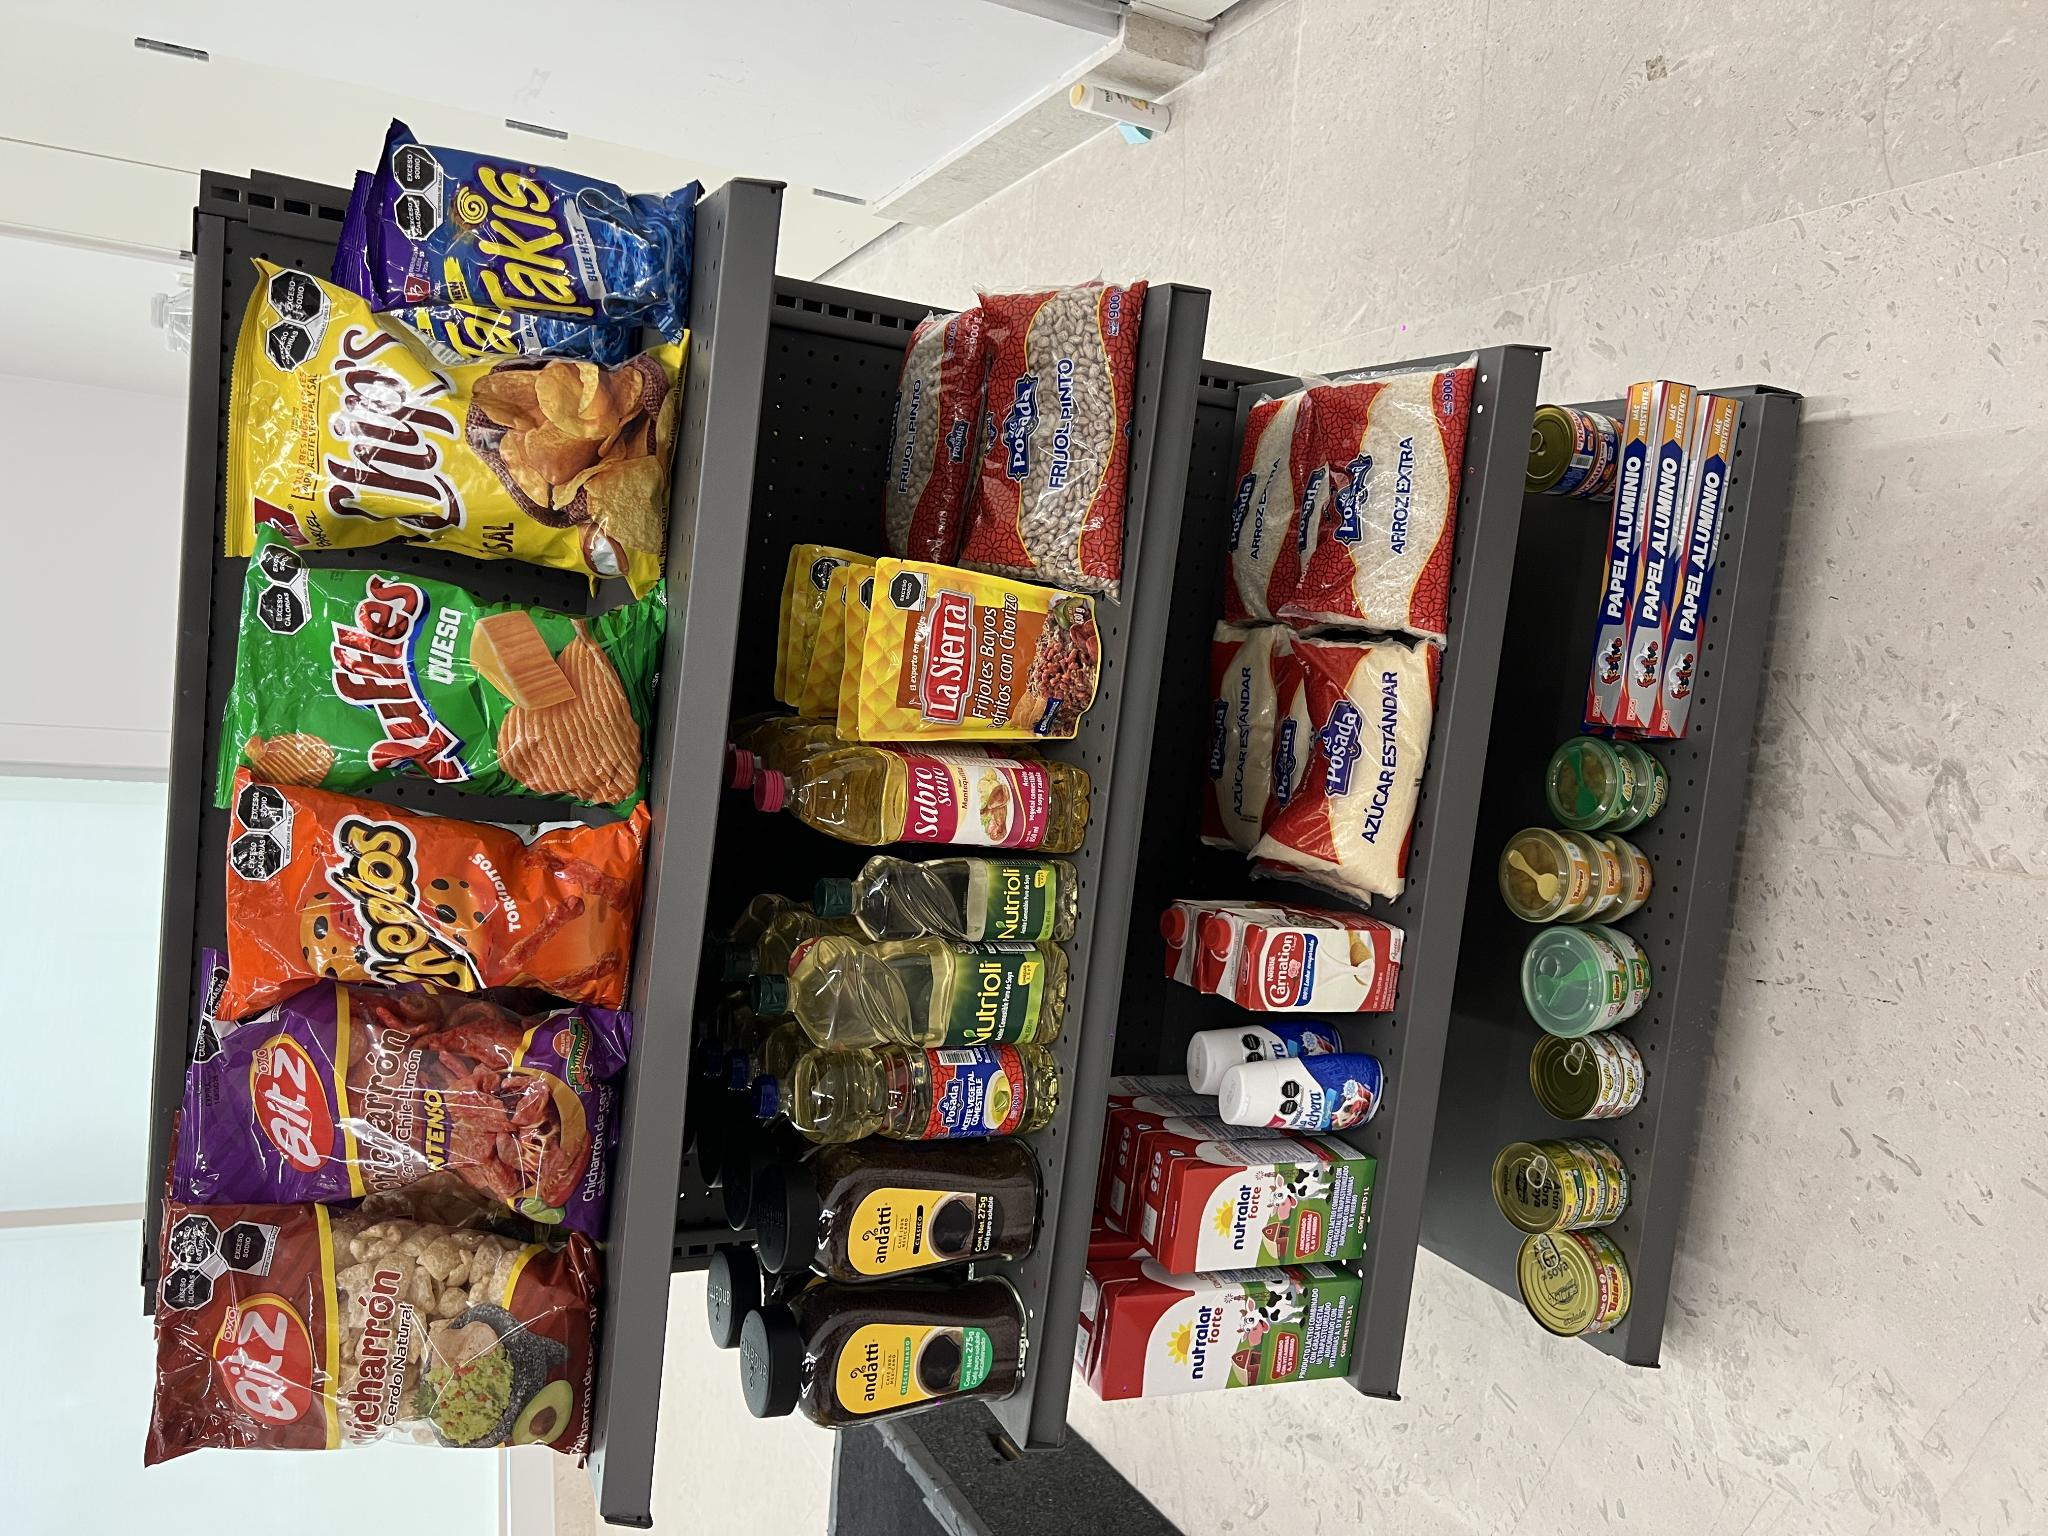aceite_nutrioli_400ml: (582, 820, 679, 1089)
aceite_nutrioli_850ml: (487, 753, 595, 1086)
aceite_posada: (393, 745, 495, 1070)
aceite_saborsano: (677, 760, 805, 1102)
andatti: (116, 747, 250, 1029), (263, 752, 389, 1050)
arroz_laposada: (905, 1279, 1177, 1491)
atun_dolores_normal: (306, 1499, 403, 1536)
azucar_laposada: (643, 1250, 895, 1447)
carnation: (526, 1244, 610, 1417)
cheetos: (531, 231, 740, 645)
chicharron_bitz_intenso: (306, 189, 531, 634)
chicharron_bitz_natural: (76, 152, 337, 603)
chips_sal: (948, 231, 1272, 682)
frijol_laposada: (958, 955, 1248, 1147)
frijol_lasierra: (792, 870, 974, 1104)
lalechera: (405, 1218, 485, 1404)
leche_nutralatforte: (139, 1097, 260, 1365), (269, 1173, 382, 1383)
ruffles: (727, 229, 997, 666)
takis: (1198, 373, 1413, 697)
